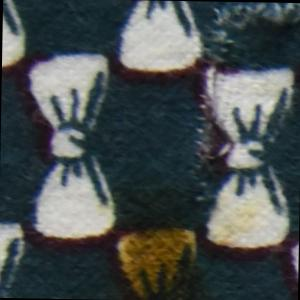Damage: (191, 1, 300, 179)
Oil Stain: (95, 193, 261, 300)
